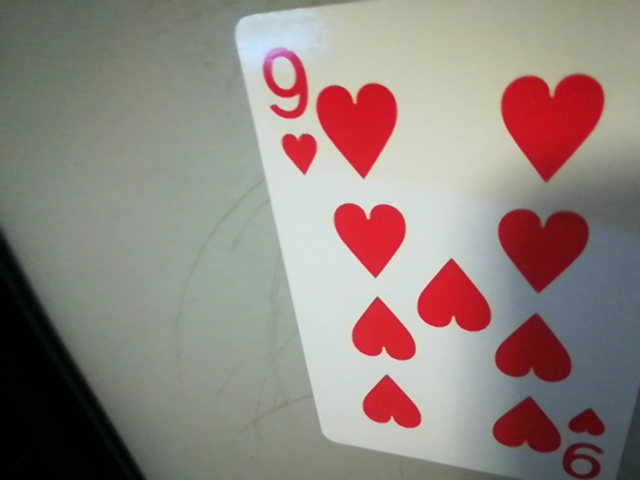hx 9: (252, 35, 323, 184)
